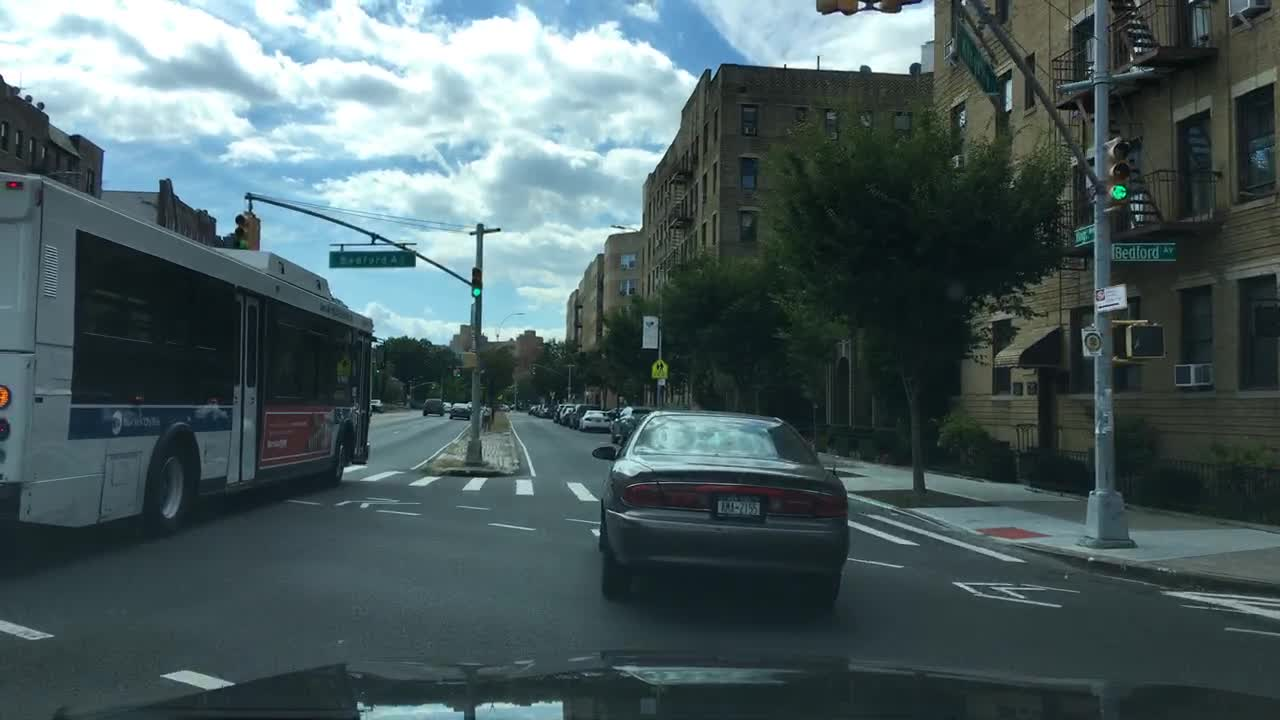bus: (0, 167, 387, 540)
car: (589, 406, 850, 613), (608, 404, 657, 446), (567, 402, 599, 431), (577, 409, 613, 432), (448, 401, 472, 421), (421, 397, 444, 416), (559, 402, 577, 425), (605, 406, 626, 422), (552, 402, 564, 423), (538, 403, 554, 418), (371, 397, 385, 413), (496, 402, 510, 412), (533, 404, 544, 416), (527, 404, 537, 415), (442, 401, 452, 412), (510, 402, 522, 411), (467, 401, 475, 412)
person: (480, 400, 494, 432)
traffic light: (1101, 134, 1130, 215), (1125, 323, 1168, 359), (234, 212, 260, 251), (814, 0, 859, 15), (879, 0, 924, 13), (456, 351, 479, 369), (470, 265, 482, 296), (455, 368, 461, 377)
traffic sign: (327, 250, 416, 267), (1110, 242, 1177, 261), (1094, 283, 1128, 313), (1074, 222, 1095, 247), (651, 359, 668, 377)
